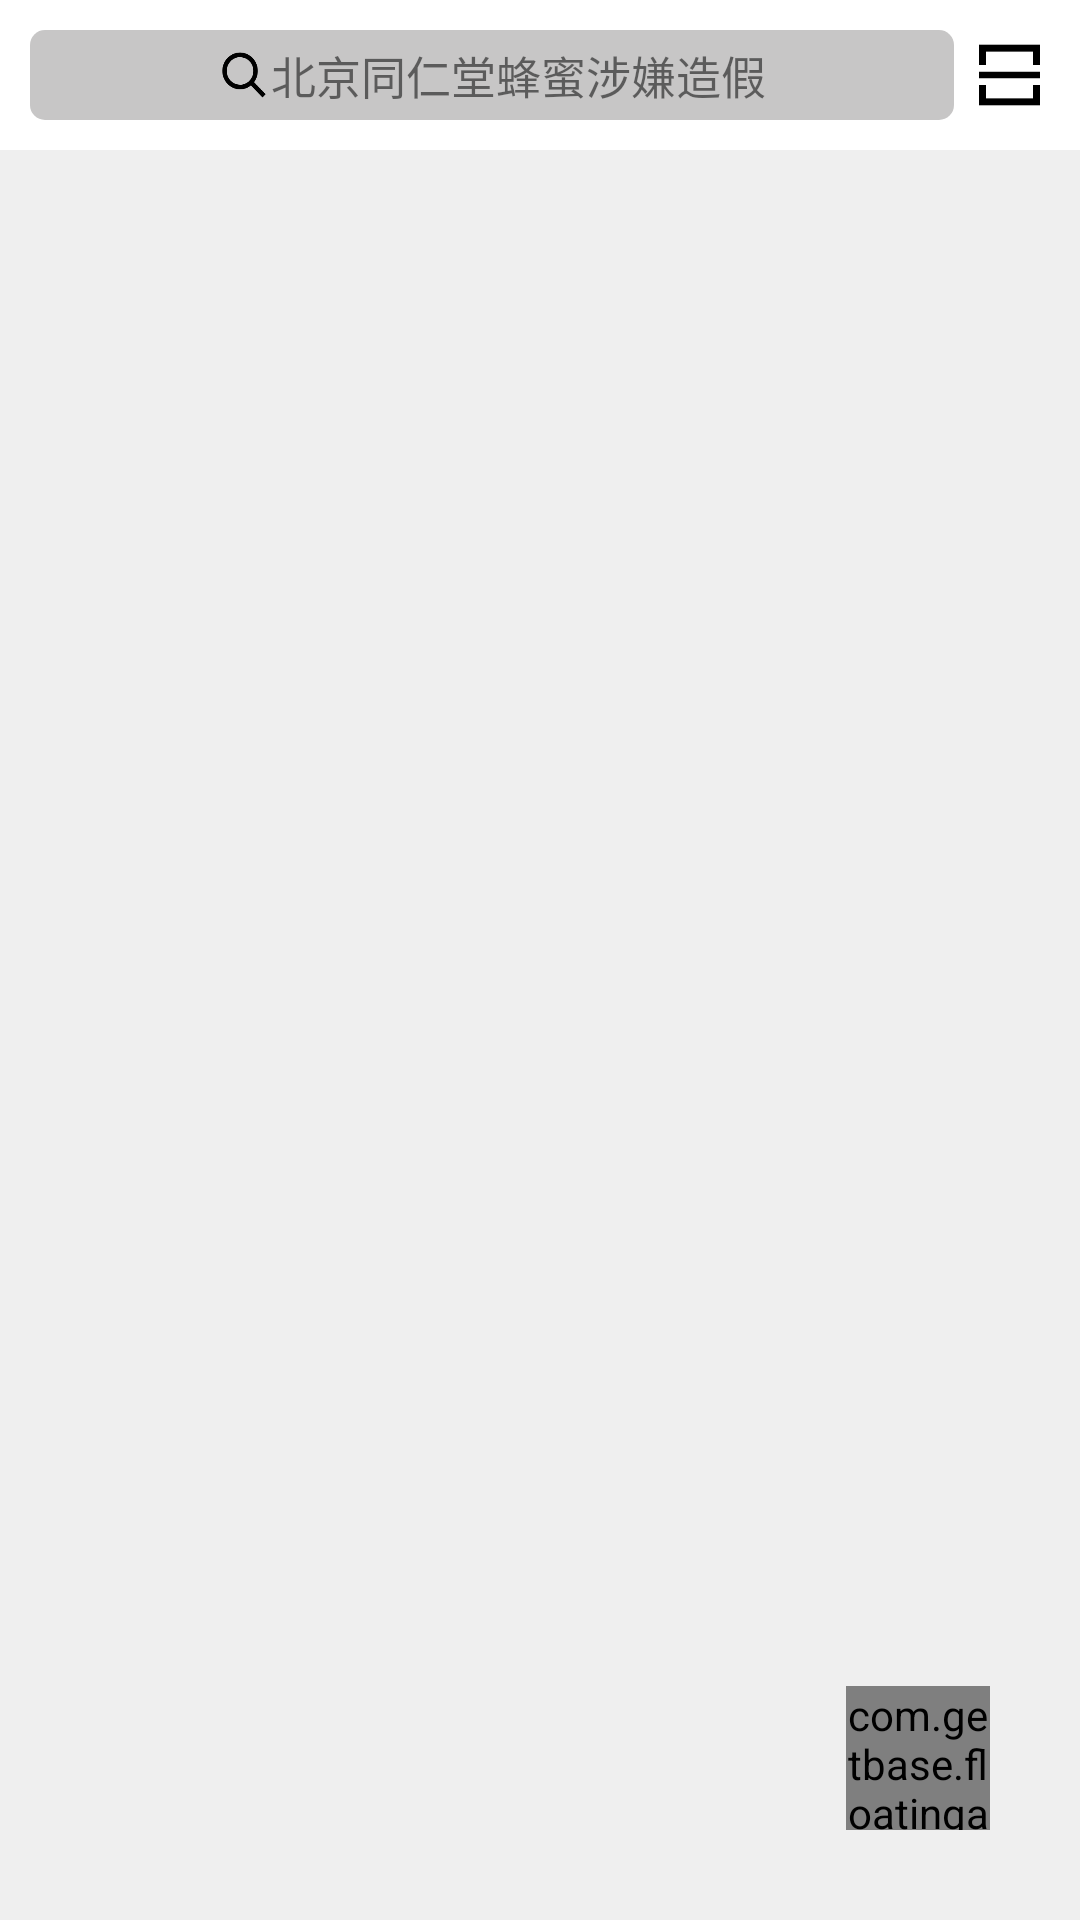

Icons on this 1080 x 1920 Android screen, each with its box as bbox=(x1, y1, x2, y2):
scanning: bbox=(979, 44, 1040, 106)
search: bbox=(222, 52, 266, 98)
